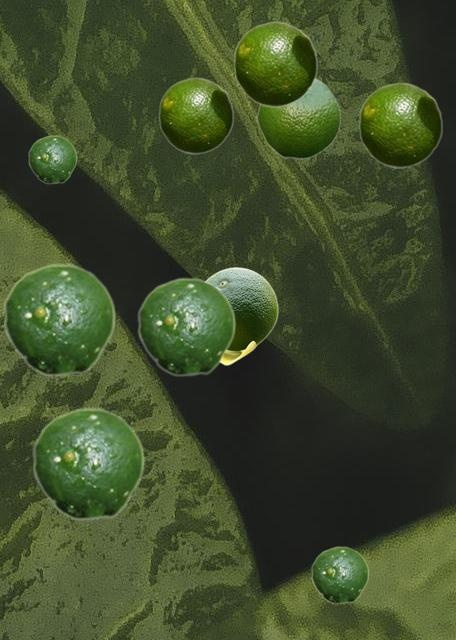calamansi: (32, 407, 144, 520), (3, 263, 115, 376), (137, 277, 235, 376), (233, 21, 317, 106), (358, 82, 442, 167), (206, 267, 277, 364), (256, 78, 340, 158), (158, 77, 233, 153), (311, 546, 368, 603), (28, 135, 76, 183)
